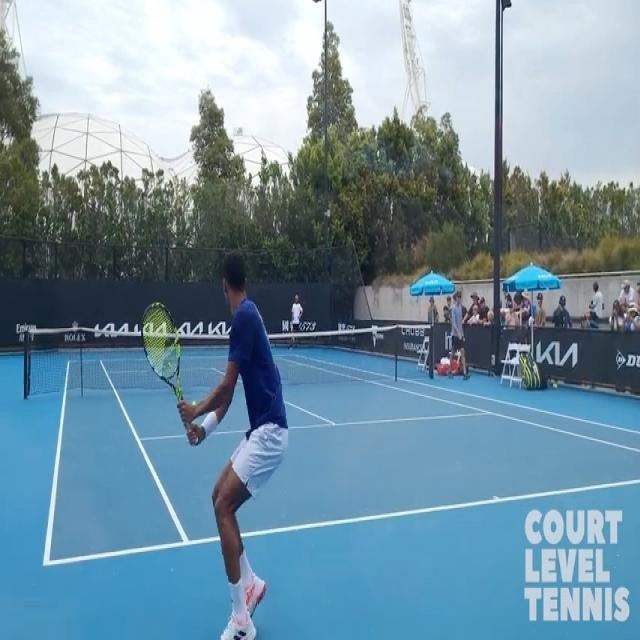backhand-ready: (140, 254, 290, 632)
